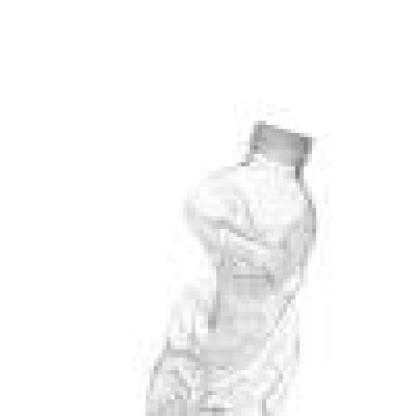Plastic Bottle: (142, 119, 322, 416)
